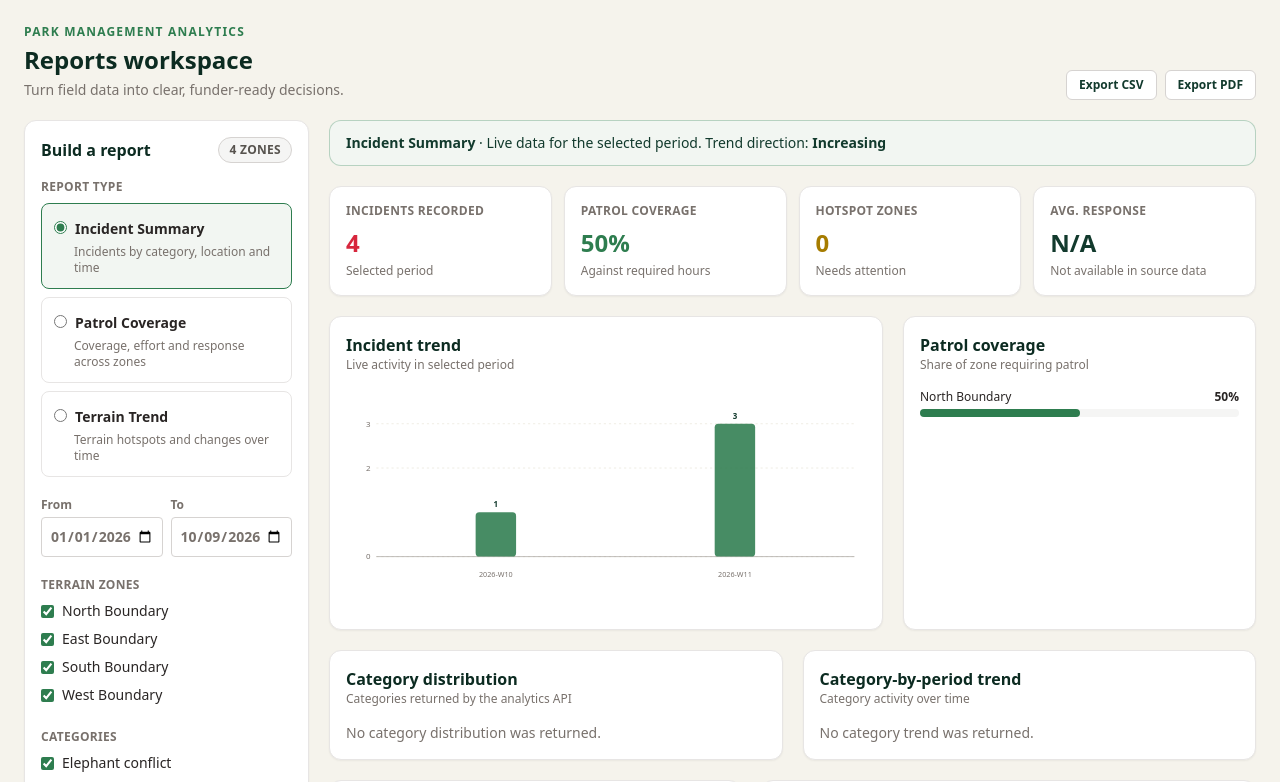
Test: ReportsPage error and partial states › confirms a successful export
Expected: the text "Incidents recorded" is shown, [346,202,484,219]
Step 1. Click the button "Export CSV" → (1111, 85), box [1066,70,1156,100]
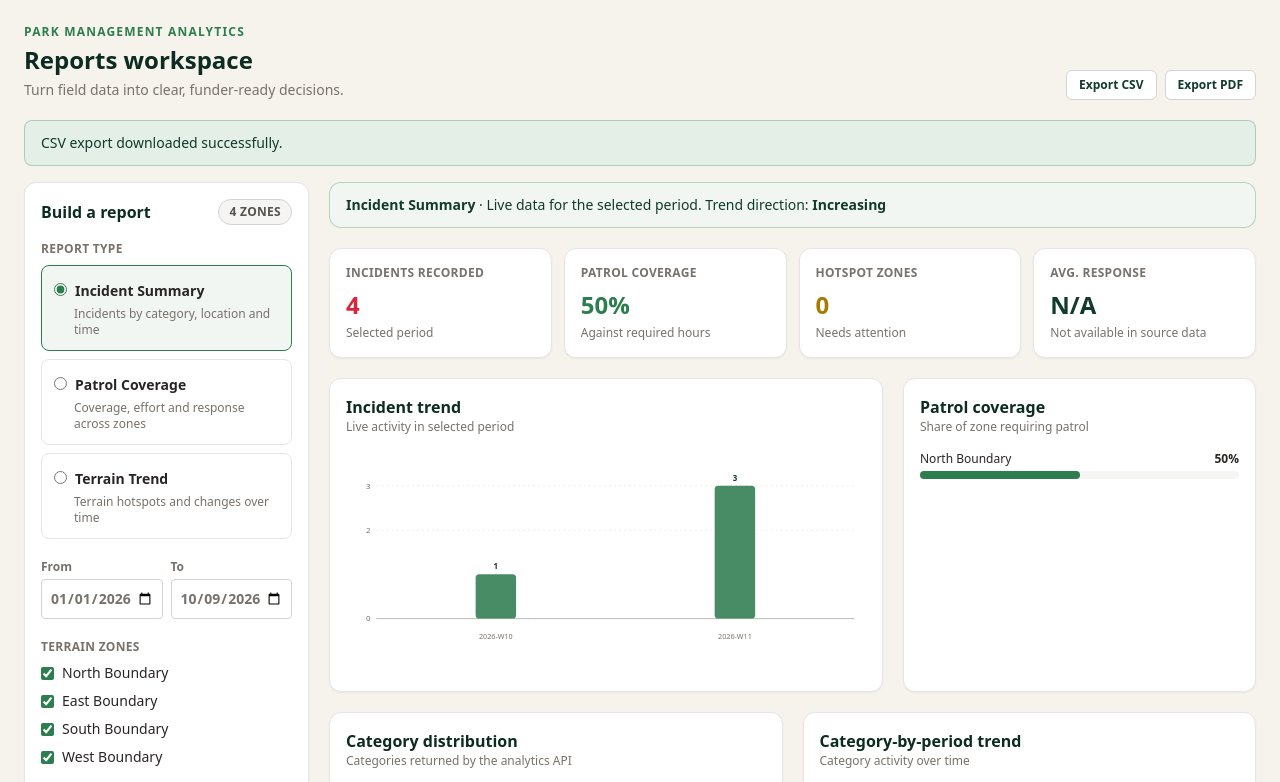
Expected: the message shows "CSV export downloaded successfully", [41,133,282,152]
